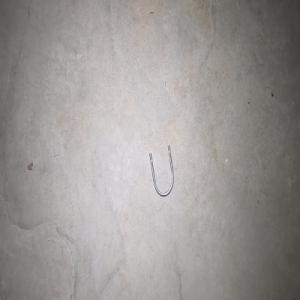ClampPart: (148, 144, 173, 197)
